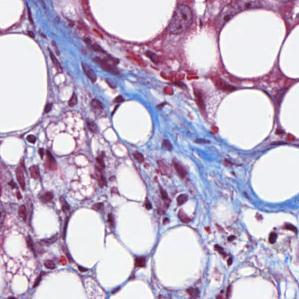inflammation: (71, 38, 122, 98)
